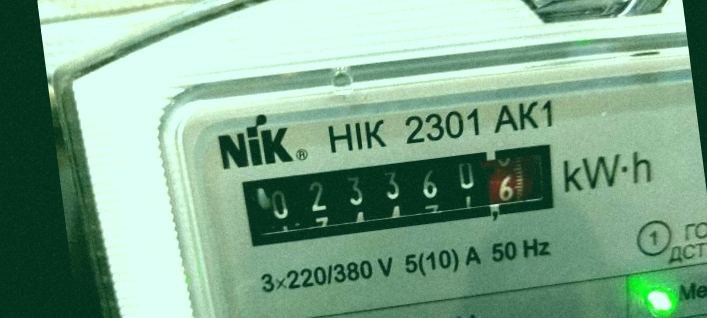0: (266, 185, 291, 221), (455, 158, 476, 191)
2: (304, 177, 331, 214)
3: (341, 173, 366, 207), (380, 167, 403, 200)
6: (416, 165, 440, 200), (492, 171, 517, 202)
screen: (221, 123, 573, 264)
